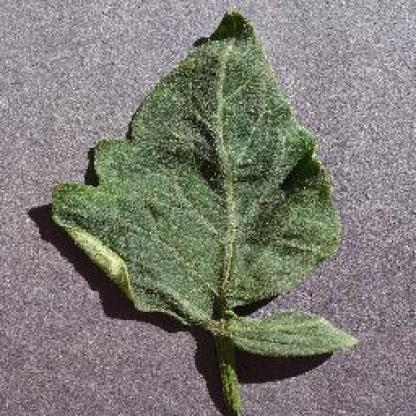good leaf: (139, 73, 319, 277)
